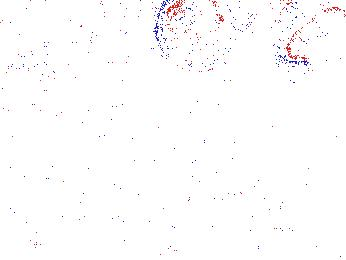moon jellyfish: (156, 1, 243, 72), (19, 1, 107, 69), (272, 1, 346, 63), (89, 1, 139, 80)
